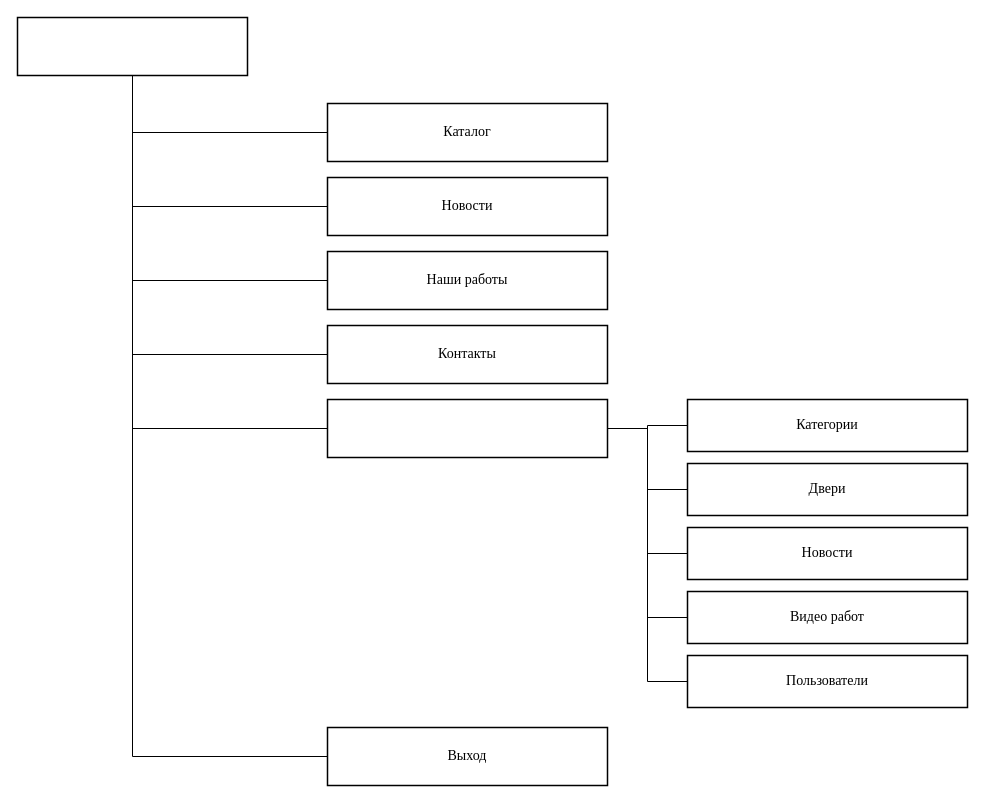
Some shapes in this 986 by 804 pixel diagram are drawn without their labels. Here are the shapes that lost their labels. From the top down, the centre of each, then its label:
At (132,46): "Главная".
At (467,428): "Панель".
